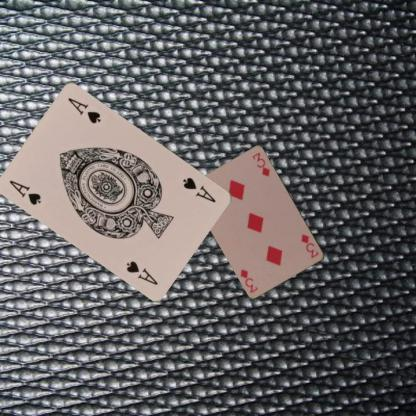3d: (299, 232, 320, 259)
As: (180, 174, 218, 204), (7, 178, 43, 206)
